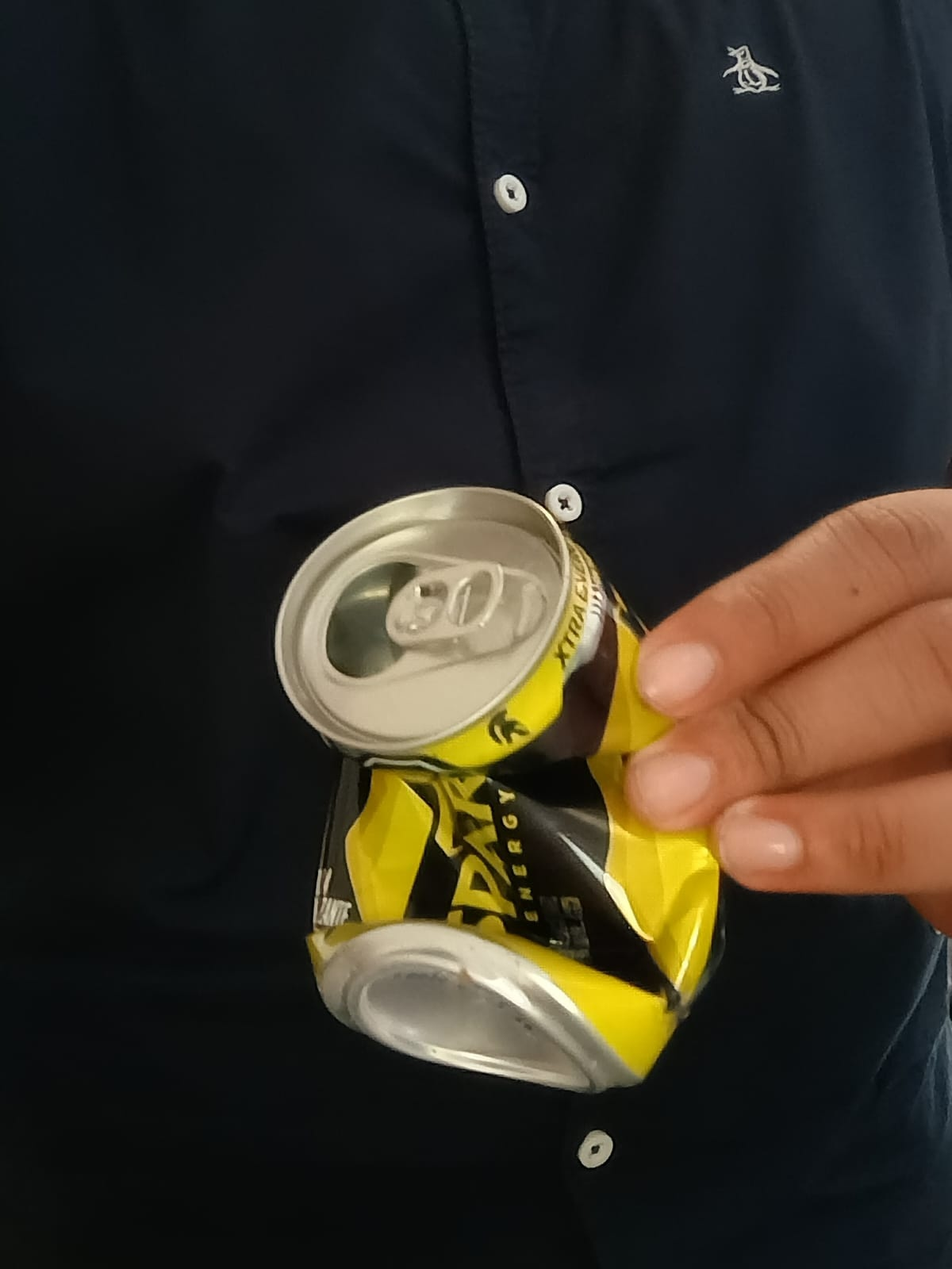Metal: (269, 480, 731, 1094)
